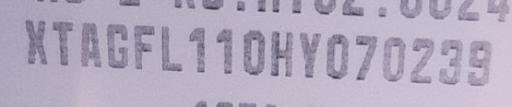letter: (408, 34, 436, 85), (464, 38, 492, 89), (296, 31, 324, 80), (351, 33, 379, 82), (50, 18, 76, 69), (78, 19, 104, 70), (106, 21, 132, 72), (241, 27, 267, 78), (438, 37, 464, 88), (158, 23, 184, 72), (268, 28, 294, 77), (324, 32, 350, 81), (22, 18, 48, 65), (132, 23, 156, 72), (382, 34, 406, 83), (214, 26, 236, 77), (186, 27, 208, 74)
